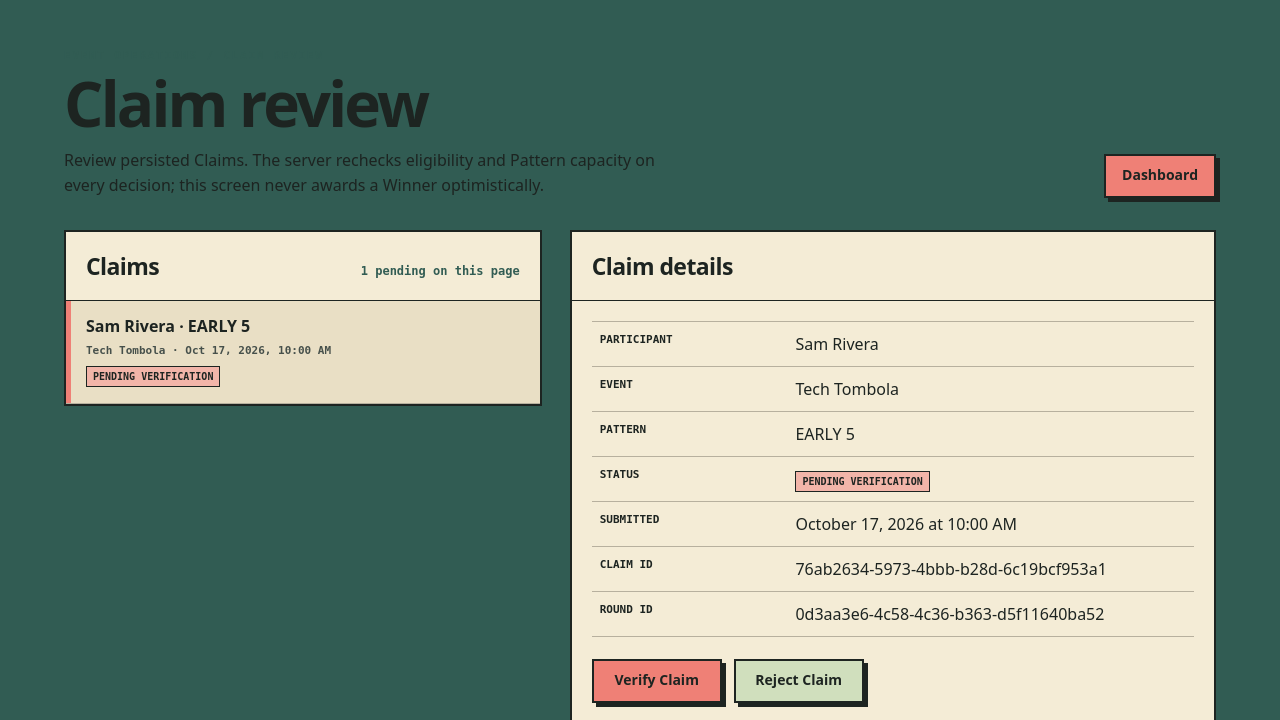
Test: Admin Claim review › verifies only after confirmation and waits for the persisted server Winner
This screenshot has width=1280, height=720.
Step 1. Click the button "Verify Claim" → [657, 681], box [592,659,722,703]
(page scrolled)
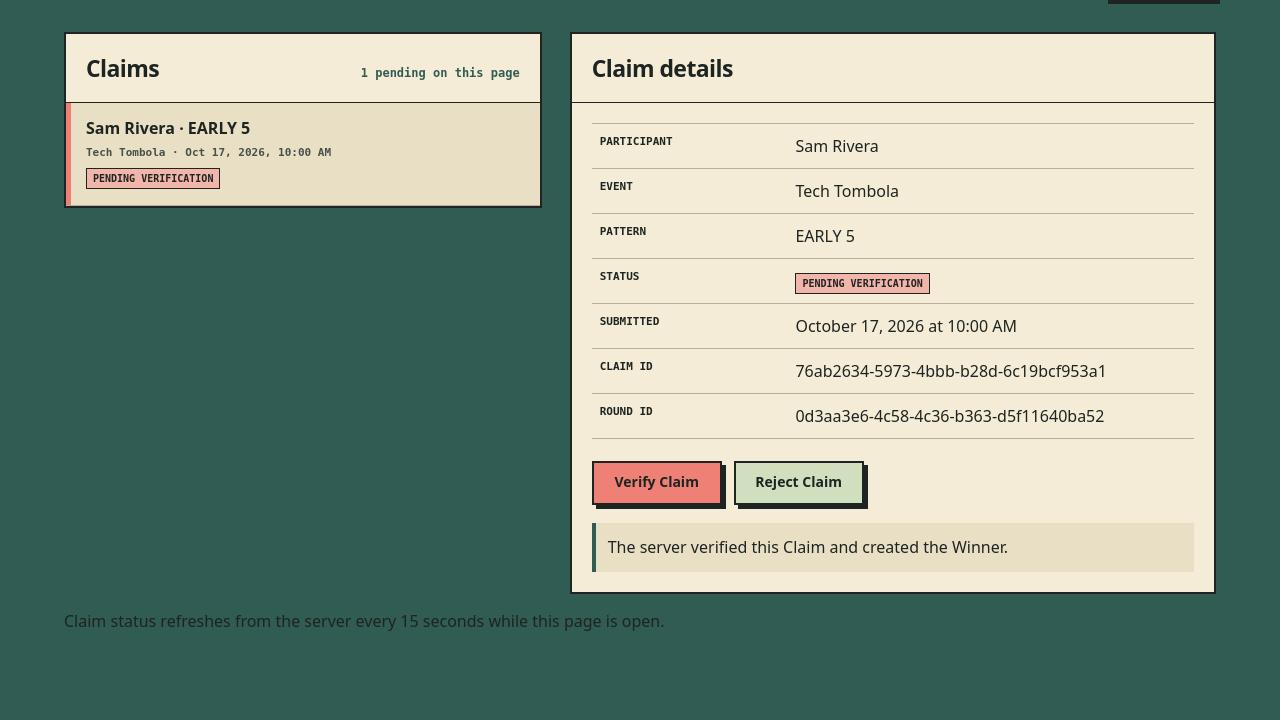
Check: the text "The server verified this Claim and created the Winner." is shown, box [592,523,1194,572]
